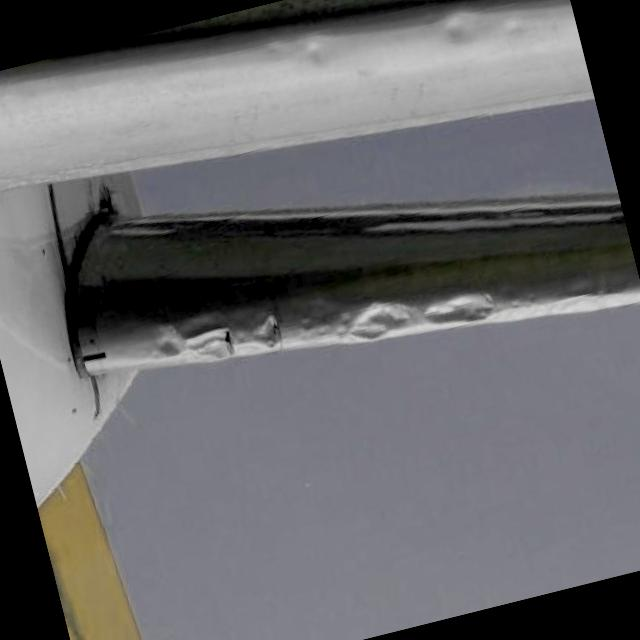dent: (419, 276, 503, 332), (336, 292, 419, 348), (437, 4, 481, 56), (182, 320, 232, 364), (246, 306, 290, 354), (291, 30, 337, 74), (154, 324, 190, 364)
